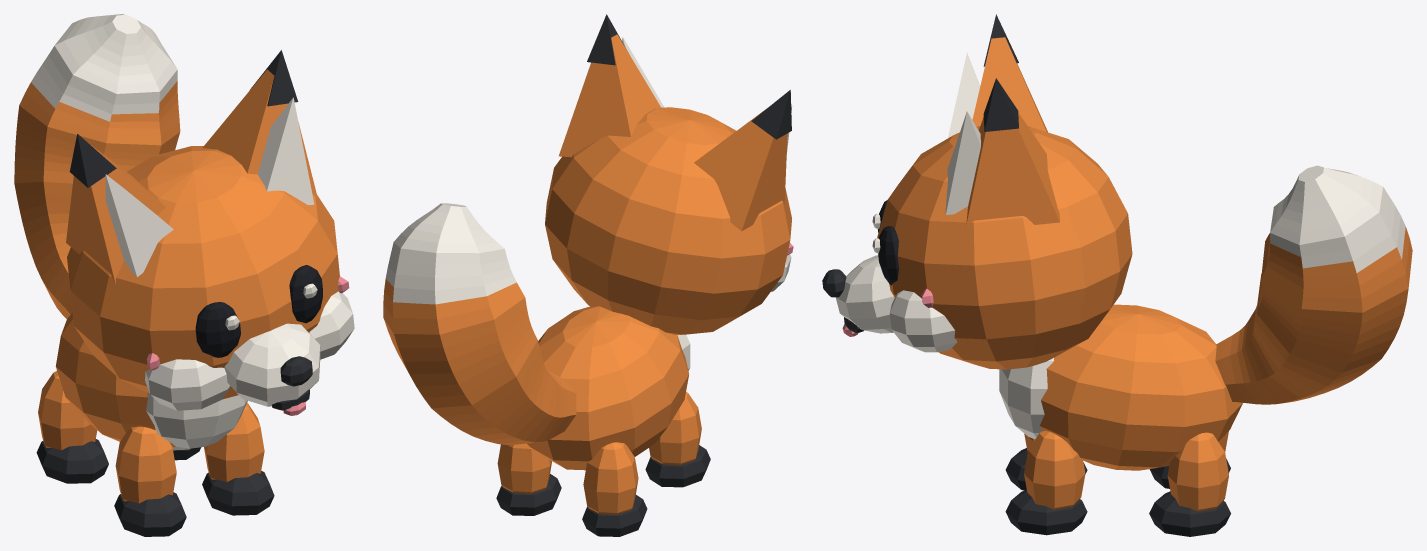
Rendered from chunky-fox-pet.glb.
The picture shows the model from 3 angles, left to right: view 1: azimuth 30°, elevation 25°; view 2: azimuth 150°, elevation 25°; view 3: azimuth 270°, elevation 25°; orthographic projection. The views are drawn at different scales.
Parts seen in each view (by area): view 1: Fox_Pet, Tail; view 2: Fox_Pet, Tail; view 3: Fox_Pet, Tail.
Part boxes in pixels (bbox=[...]): Fox_Pet: bbox=[36, 50, 354, 536]; Tail: bbox=[14, 14, 180, 318]; Fox_Pet: bbox=[496, 14, 793, 536]; Tail: bbox=[383, 203, 576, 445]; Fox_Pet: bbox=[822, 14, 1242, 536]; Tail: bbox=[1215, 165, 1412, 404].
Size of the model in its own units: 1.73 by 2.94 by 3.45.
